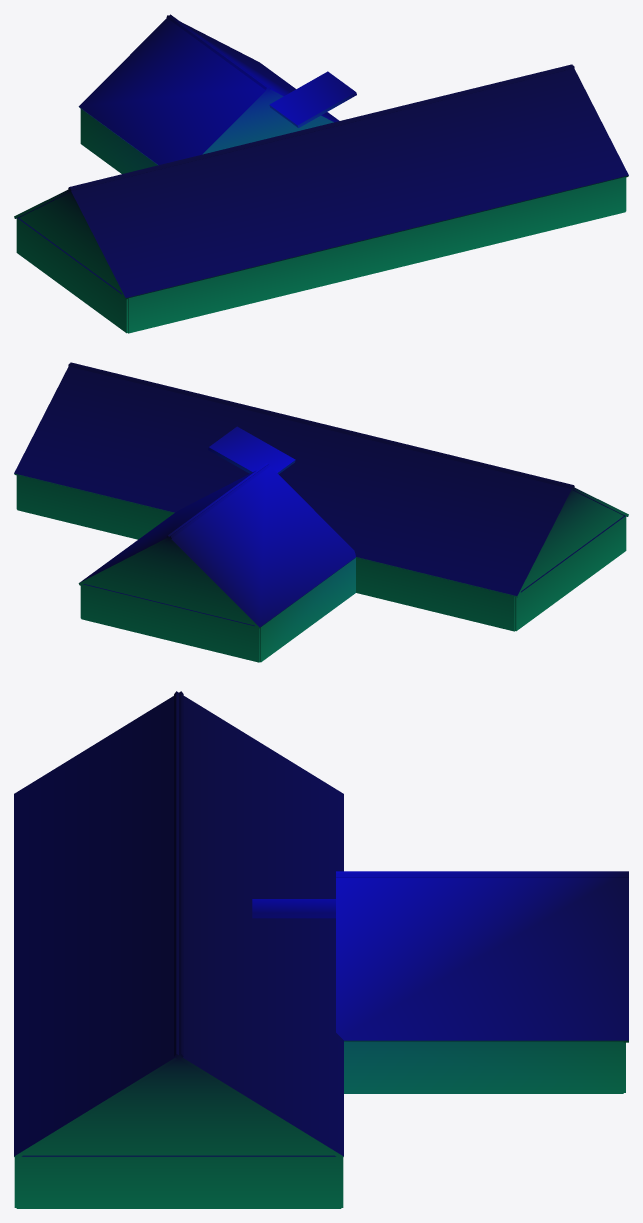
The model's file is hqtent_damaged.glb.
3 views of the same model, one above another, from view 1: azimuth 30°, elevation 25°; view 2: azimuth 150°, elevation 25°; view 3: azimuth 270°, elevation 25° (orthographic). The views are drawn at different scales.
Visible parts, largest first — view 1: lod0; view 2: lod0; view 3: lod0.
Part boxes in pixels (x1=…): lod0: x1=14, y1=14, x2=628, y2=333; lod0: x1=14, y1=362, x2=628, y2=662; lod0: x1=14, y1=691, x2=628, y2=1208.
Size of what is drawn, in the model's own units: 16.4 by 3.34 by 11.75.
